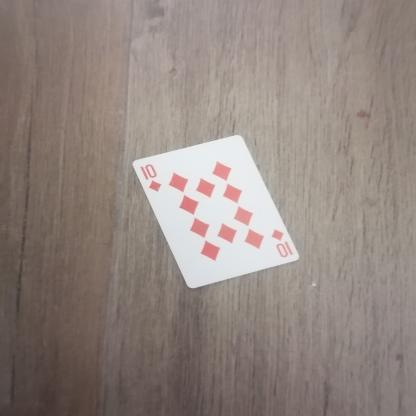10D: (266, 224, 297, 260), (136, 162, 164, 196)
